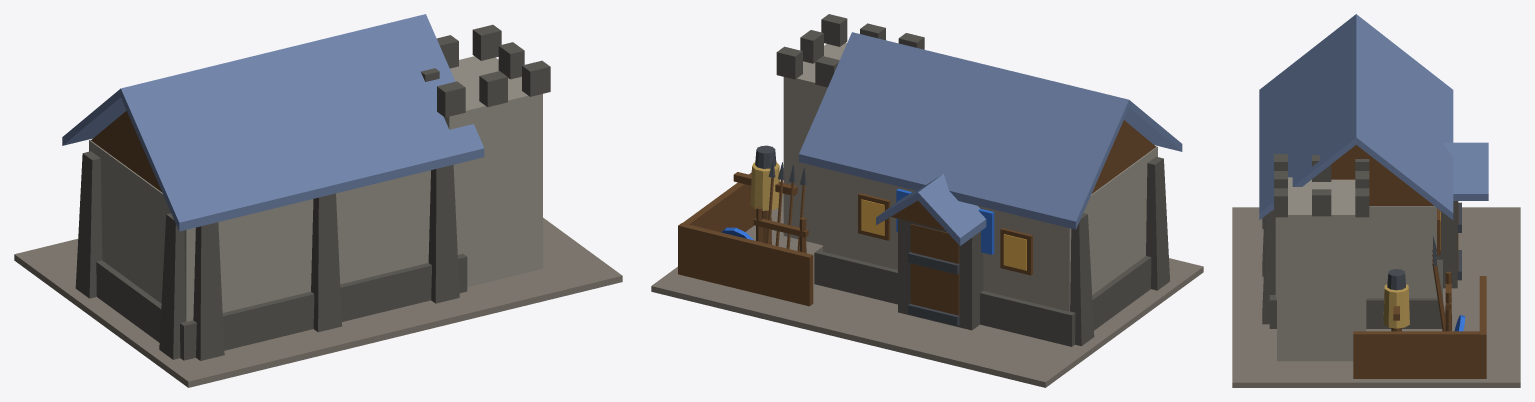
File: Barracks.obj
3 views of the same model, side by side, from view 1: azimuth 30°, elevation 25°; view 2: azimuth 150°, elevation 25°; view 3: azimuth 270°, elevation 25° (orthographic). The views are drawn at different scales.
Visible parts, largest first — view 1: Barracks_roof_team, Barracks_stone, Barracks_dark_stone, Barracks_cobble, Barracks_timber; view 2: Barracks_roof_team, Barracks_stone, Barracks_dark_stone, Barracks_cobble, Barracks_timber, Barracks_iron, Barracks_window_glow, Barracks_straw, Barracks_banner_team; view 3: Barracks_roof_team, Barracks_stone, Barracks_cobble, Barracks_timber, Barracks_dark_stone, Barracks_straw, Barracks_iron.
Boxes of the visible parts, x1=… form: Barracks_roof_team: x1=62, y1=14, x2=484, y2=231; Barracks_stone: x1=89, y1=56, x2=542, y2=321; Barracks_dark_stone: x1=75, y1=24, x2=550, y2=360; Barracks_cobble: x1=14, y1=217, x2=622, y2=387; Barracks_timber: x1=91, y1=111, x2=161, y2=191; Barracks_roof_team: x1=799, y1=32, x2=1182, y2=245; Barracks_stone: x1=783, y1=42, x2=1157, y2=311; Barracks_dark_stone: x1=776, y1=14, x2=1169, y2=346; Barracks_cobble: x1=651, y1=193, x2=1203, y2=387; Barracks_timber: x1=678, y1=120, x2=1155, y2=315; Barracks_iron: x1=755, y1=145, x2=959, y2=326; Barracks_window_glow: x1=861, y1=199, x2=1026, y2=270; Barracks_straw: x1=750, y1=162, x2=779, y2=210; Barracks_banner_team: x1=721, y1=188, x2=994, y2=254; Barracks_roof_team: x1=1259, y1=14, x2=1488, y2=220; Barracks_stone: x1=1275, y1=177, x2=1436, y2=361; Barracks_cobble: x1=1232, y1=207, x2=1520, y2=387; Barracks_timber: x1=1331, y1=145, x2=1486, y2=378; Barracks_dark_stone: x1=1262, y1=154, x2=1457, y2=328; Barracks_straw: x1=1383, y1=284, x2=1409, y2=328; Barracks_iron: x1=1387, y1=202, x2=1461, y2=290.
Bounding box in the file's own units: 7.2 × 3.85 × 5.
